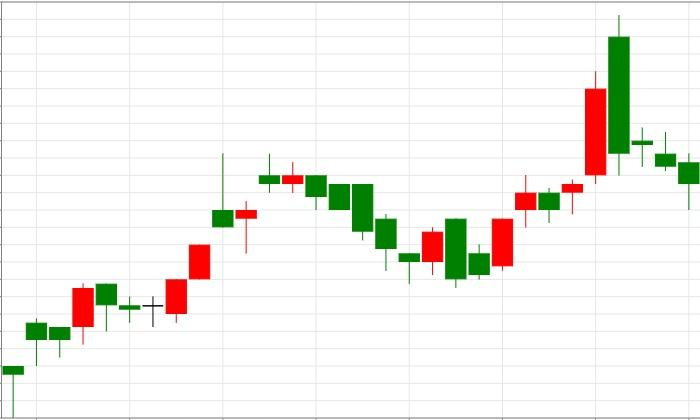shooting_star_fall: (142, 153, 234, 326)
